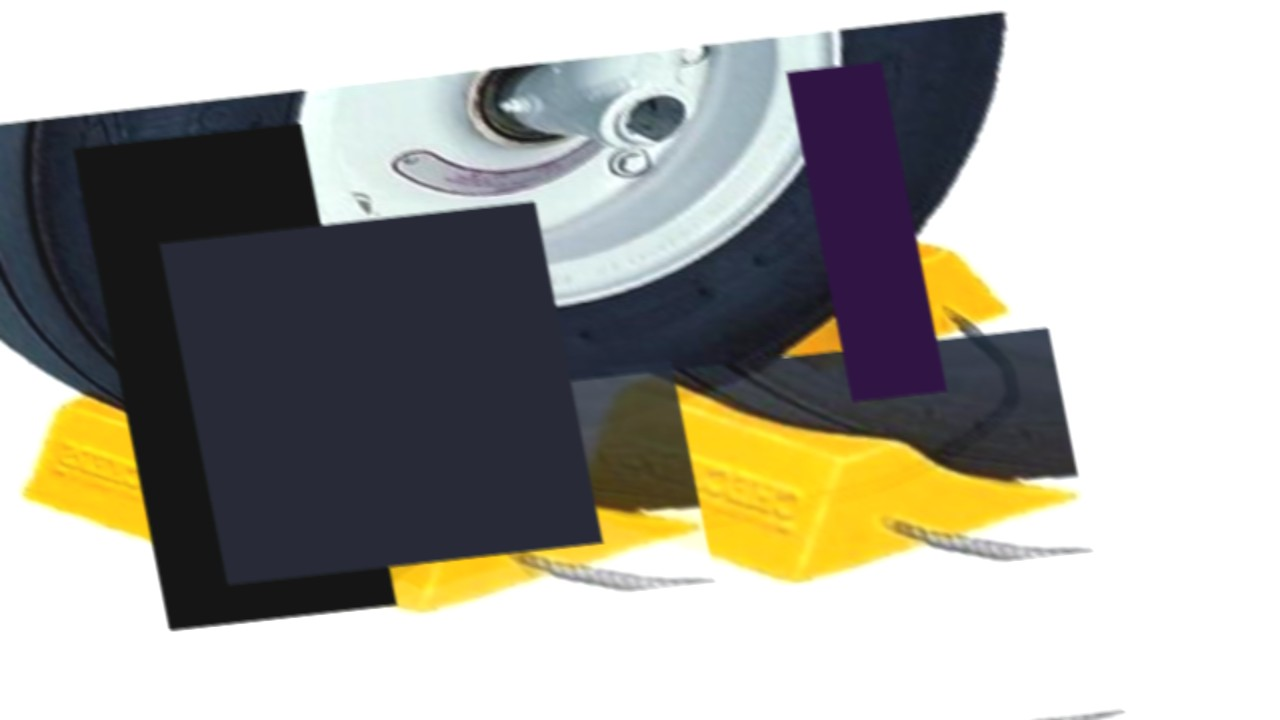chock: (546, 327, 1095, 608), (174, 360, 717, 637), (4, 360, 423, 574), (728, 218, 1021, 379), (364, 488, 556, 595)
wheel: (0, 13, 1088, 525)
